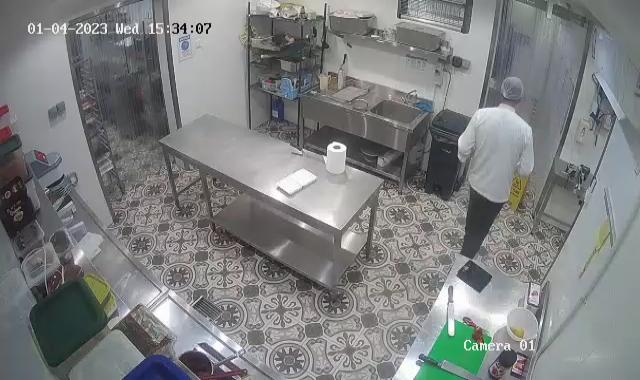hairnet: (499, 75, 526, 102)
